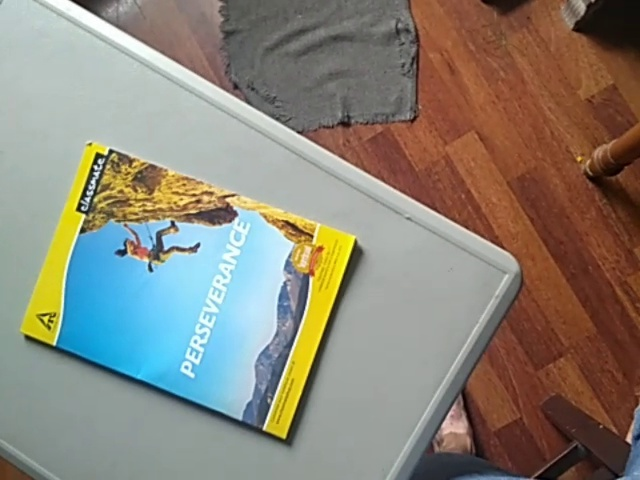Book: (10, 133, 376, 454)
